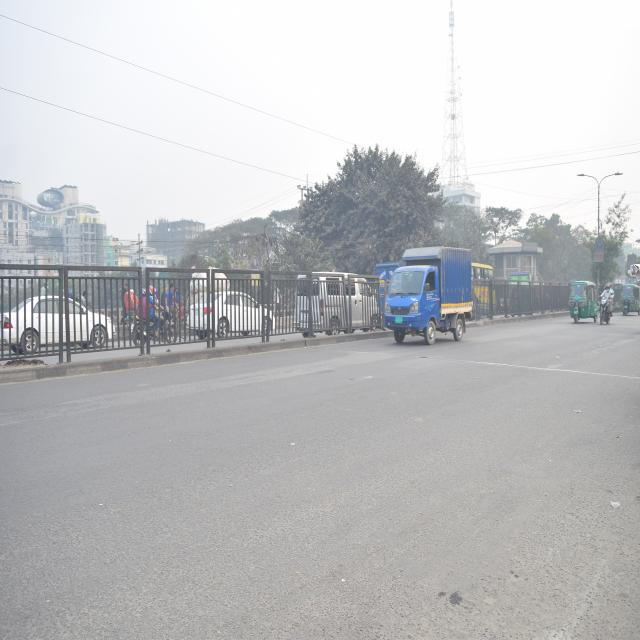motorbike: (594, 285, 616, 331)
pickup-van: (382, 235, 474, 358)
